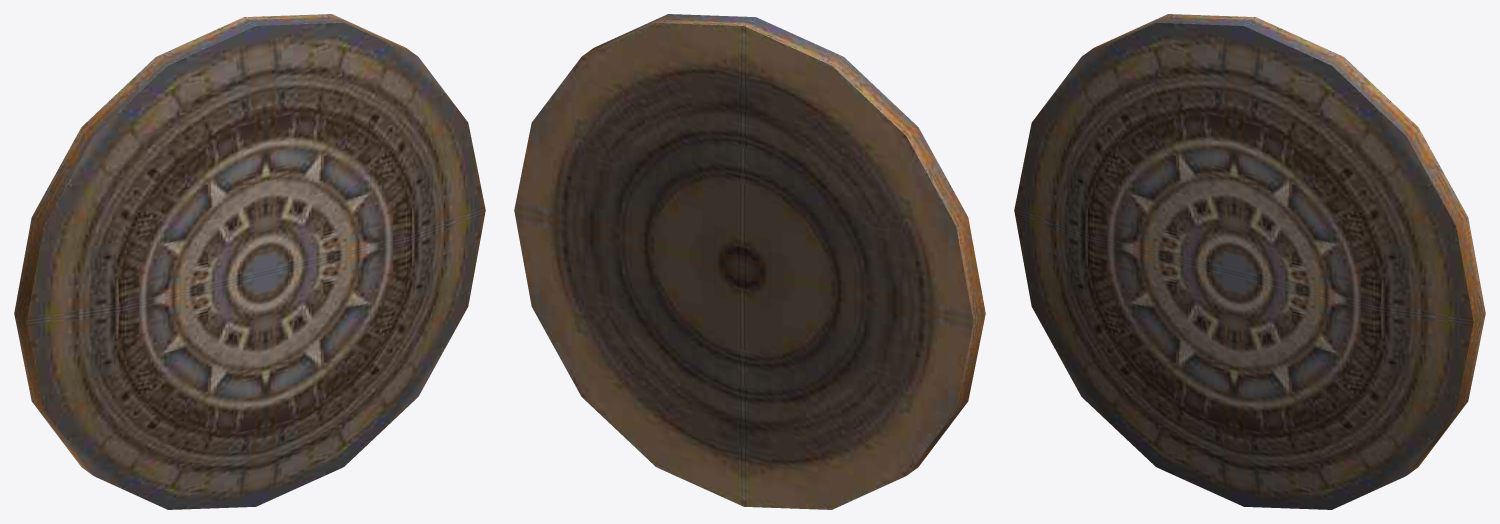
The model's file is luopan-3.FBX.
3 views of the same model, side by side, from view 1: azimuth 30°, elevation 25°; view 2: azimuth 150°, elevation 25°; view 3: azimuth 330°, elevation 25° (orthographic).
Visible parts, largest first — view 1: luopan-3; view 2: luopan-3; view 3: luopan-3.
Boxes of the visible parts, bbox=[...] form: luopan-3: bbox=[14, 14, 485, 509]; luopan-3: bbox=[514, 14, 985, 509]; luopan-3: bbox=[1014, 14, 1485, 509].
Bounding box in the file's own units: 20.22 × 20.22 × 1.83.
1 material, 1 textured.
